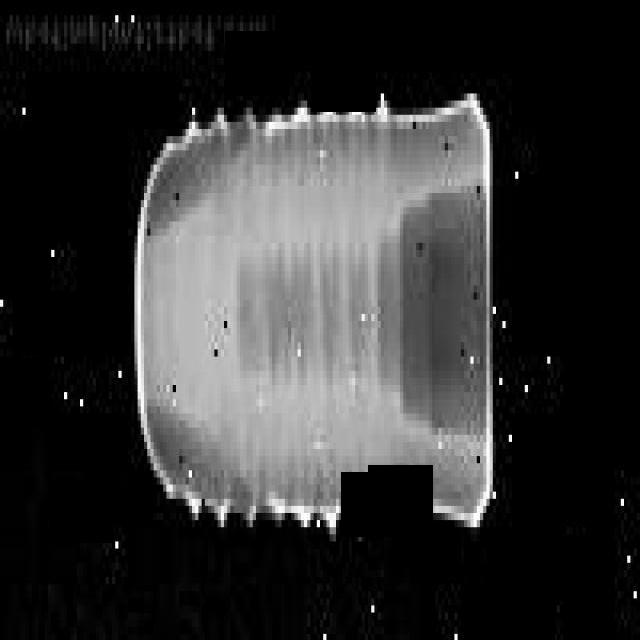Titan Implant Implant: (128, 85, 493, 533)
